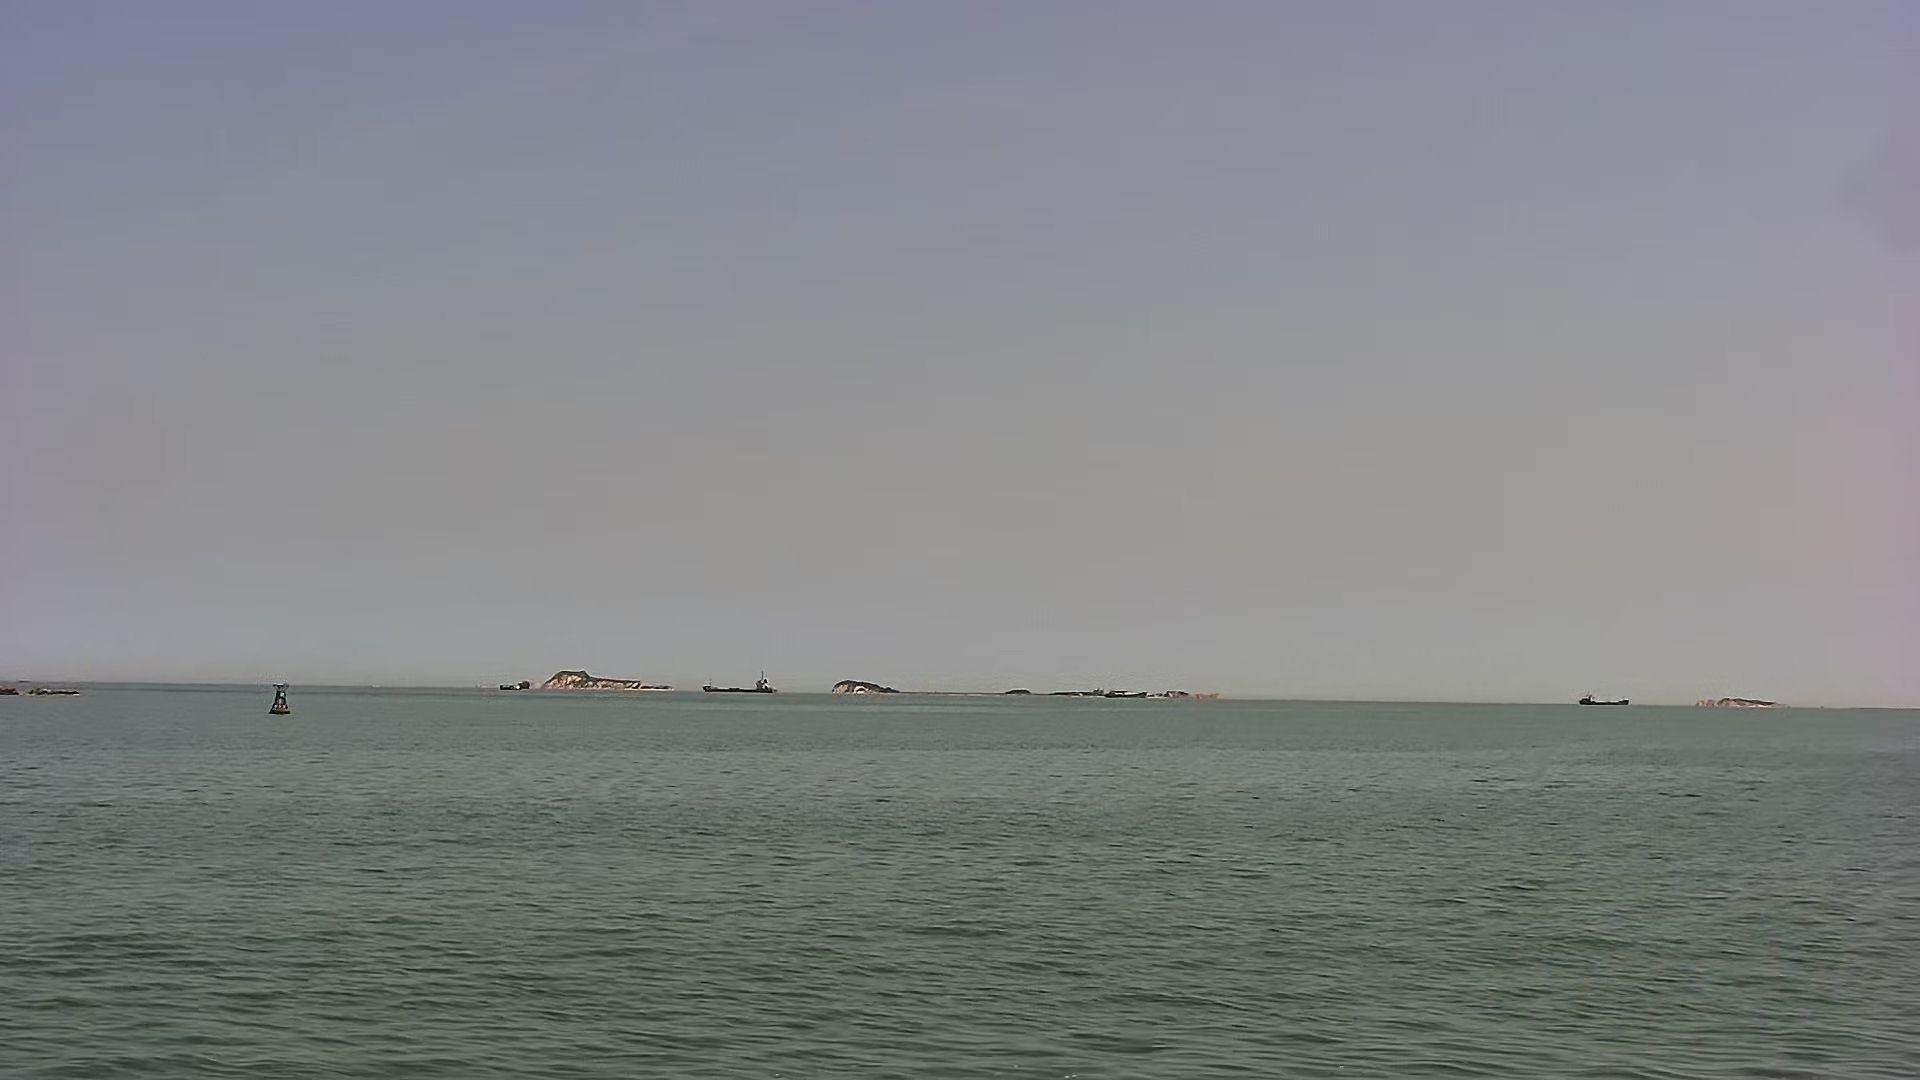buoy: (264, 678, 299, 716)
rock: (496, 669, 675, 695), (823, 673, 914, 702), (1689, 695, 1797, 712)
ship: (696, 669, 782, 695), (1571, 690, 1636, 712)
